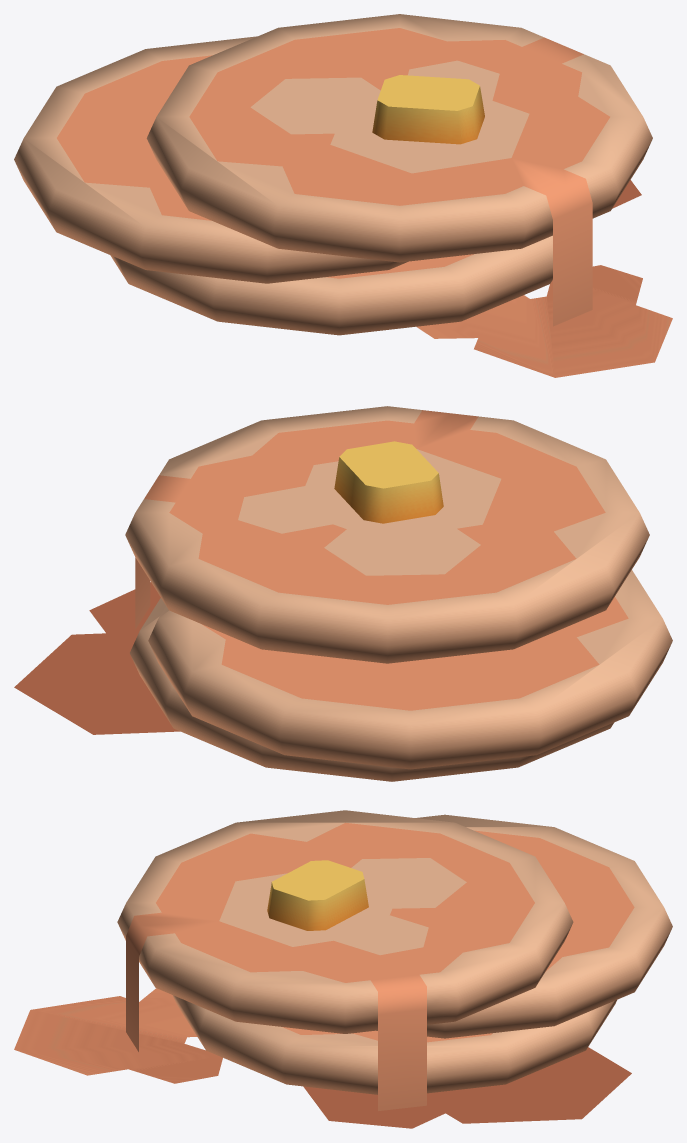
The model's file is cc0-pancake-lod0.glb.
3 renders of one model, top to bottom at view 1: azimuth 30°, elevation 25°; view 2: azimuth 150°, elevation 25°; view 3: azimuth 270°, elevation 25°, orthographic. The views are drawn at different scales.
Parts seen in each view (by area): view 1: part_0; view 2: part_0; view 3: part_0.
Part boxes in pixels (x1=…): part_0: x1=14, y1=14, x2=672, y2=377; part_0: x1=14, y1=406, x2=672, y2=781; part_0: x1=14, y1=810, x2=672, y2=1128.
Size of the model in its own units: 0.4355 by 0.1216 by 0.5039.
Materials: 1 (1 with a texture image).
